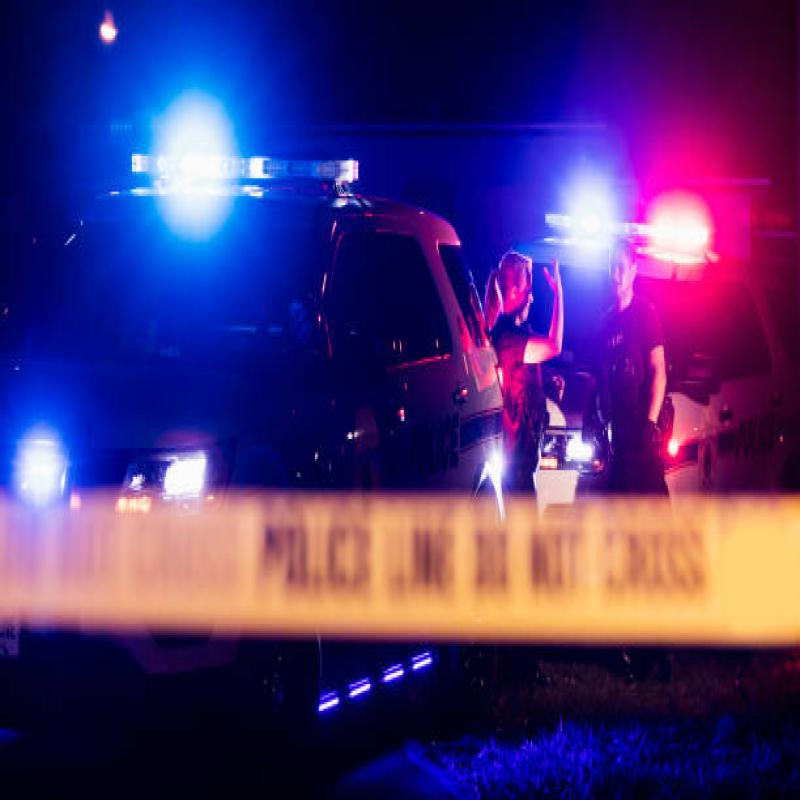AmbulanceSiren: (523, 159, 719, 291), (112, 124, 368, 210)
